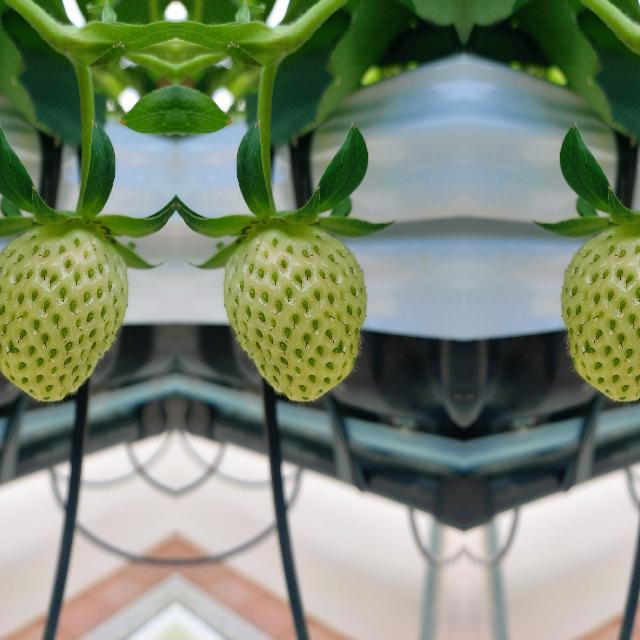Health_25: (221, 225, 367, 405), (0, 225, 129, 405), (559, 225, 640, 405)
